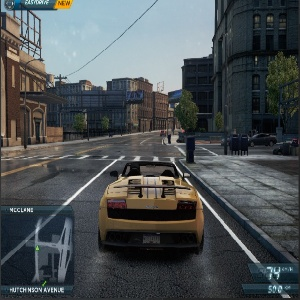building: (182, 23, 261, 156), (58, 77, 170, 131)
garbage: (271, 135, 300, 159)
lamp post: (20, 51, 51, 150)
mailbox: (224, 133, 251, 160), (185, 135, 197, 164)
tree: (262, 54, 298, 137), (174, 90, 200, 137), (72, 109, 87, 139), (100, 116, 110, 135)
vehicle: (250, 130, 277, 147), (159, 126, 168, 137)
